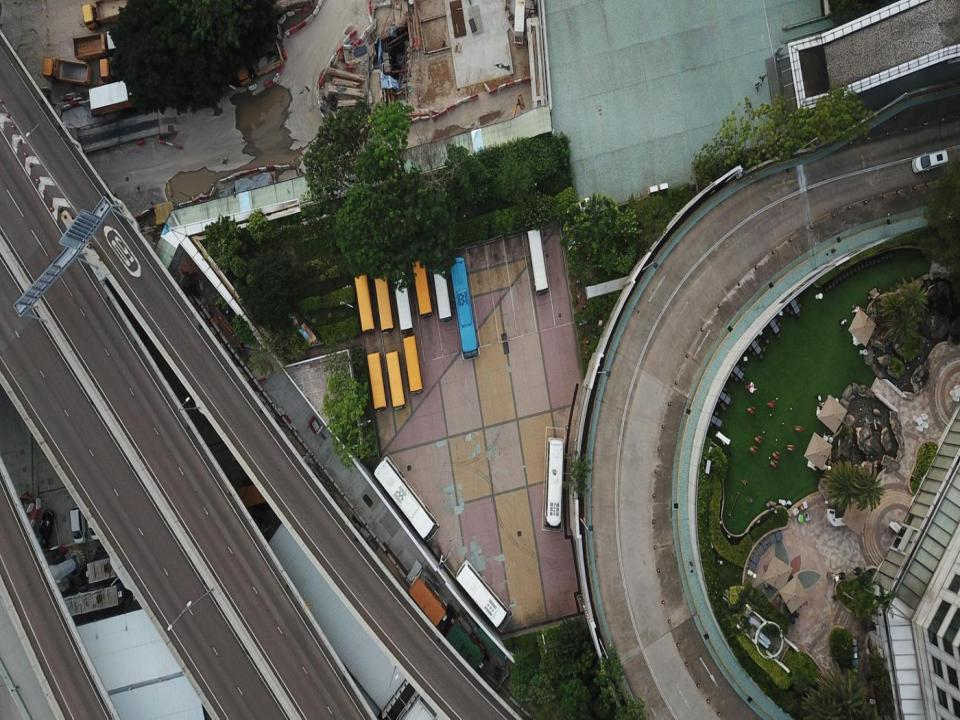bus: (374, 456, 440, 542), (456, 559, 508, 628), (450, 257, 478, 360), (544, 437, 564, 528), (391, 262, 415, 336), (527, 228, 549, 295), (373, 268, 394, 334), (411, 256, 433, 319), (355, 274, 377, 336), (402, 335, 424, 396), (385, 349, 407, 410), (432, 262, 453, 324), (367, 351, 387, 412)
car: (35, 510, 54, 548)
truck: (72, 28, 127, 61), (99, 46, 146, 81), (80, 0, 131, 29), (43, 58, 91, 86)
van: (85, 493, 106, 539), (912, 149, 948, 174), (70, 505, 86, 545)
